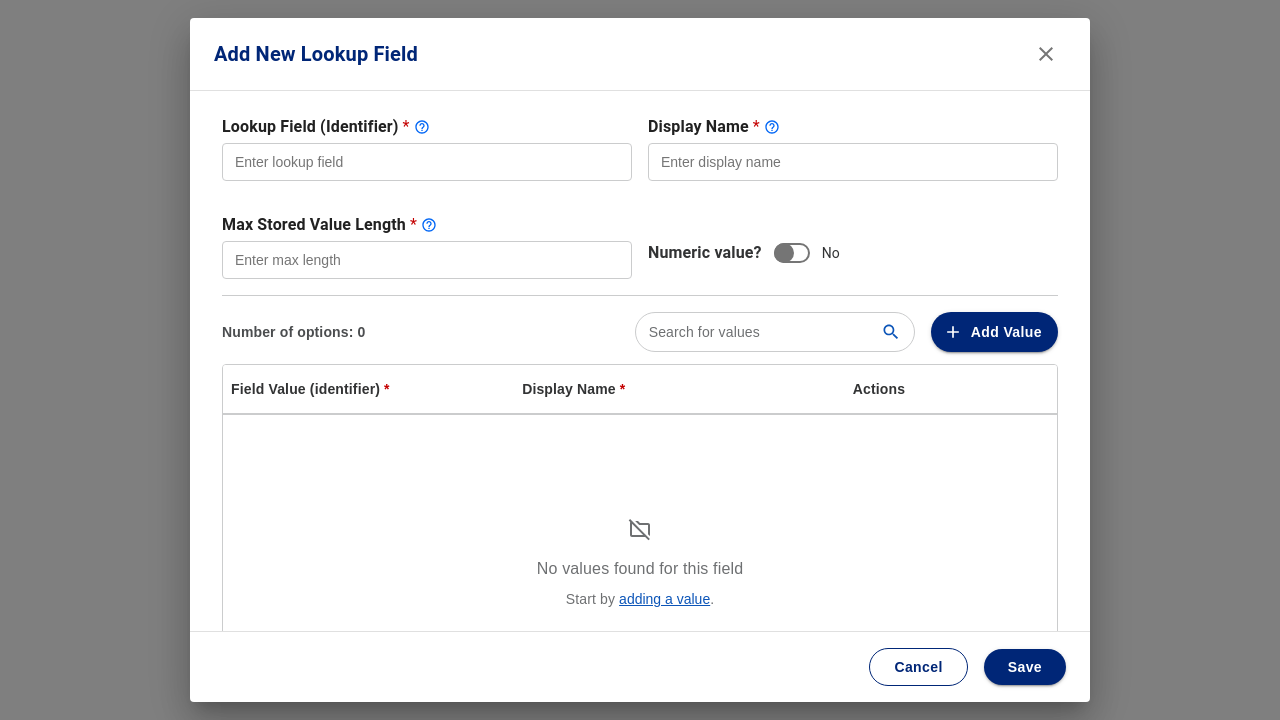
Test: LookupFieldDialog › should validate required fields on submit
Step 1. Click the button "Save" → (1025, 667), box [984, 648, 1066, 685]
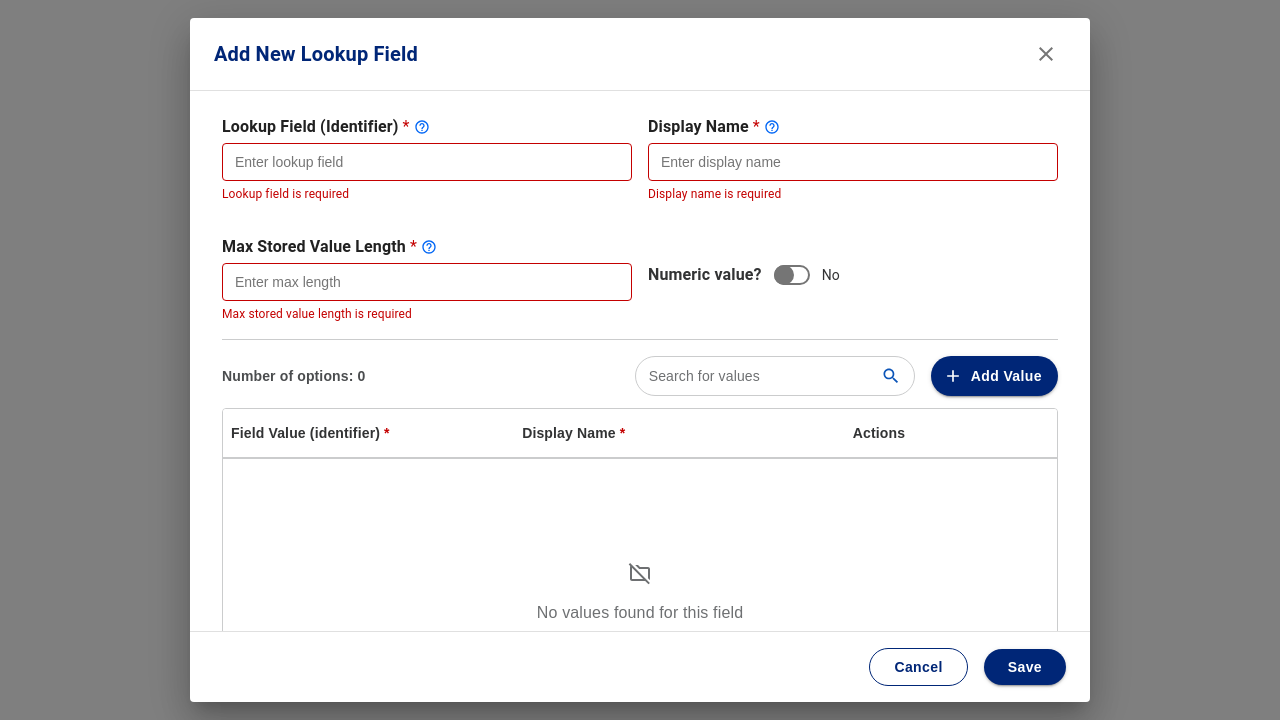
Now the text "Lookup field is required" is shown, box [222, 187, 349, 201]
Now the text "Display name is required" is shown, box [648, 187, 781, 201]
